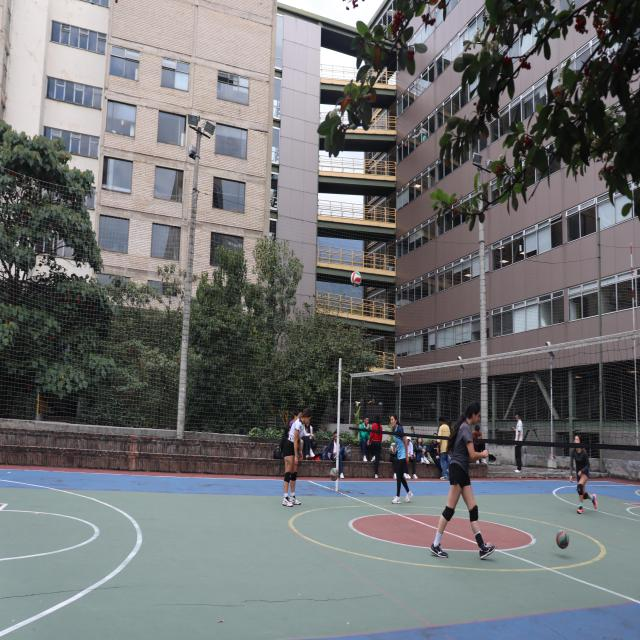volleyball: (556, 529, 569, 549), (351, 271, 362, 288), (330, 468, 338, 481), (390, 442, 398, 454)
